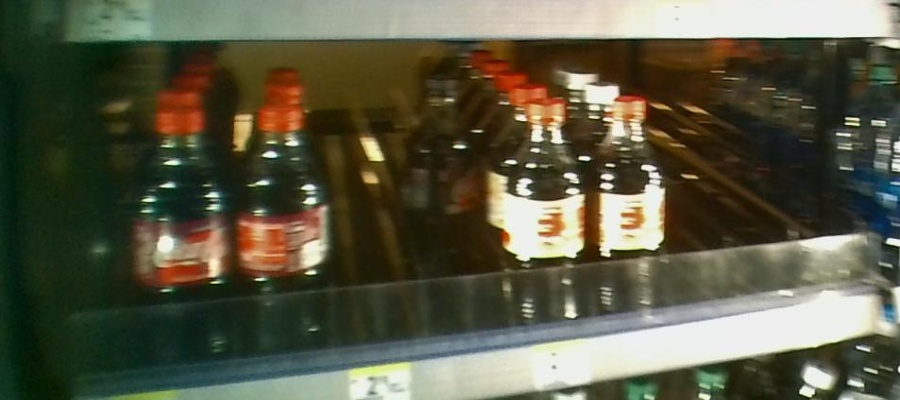bottle: (128, 114, 238, 349), (238, 102, 332, 354), (496, 97, 588, 334), (596, 89, 669, 323)
